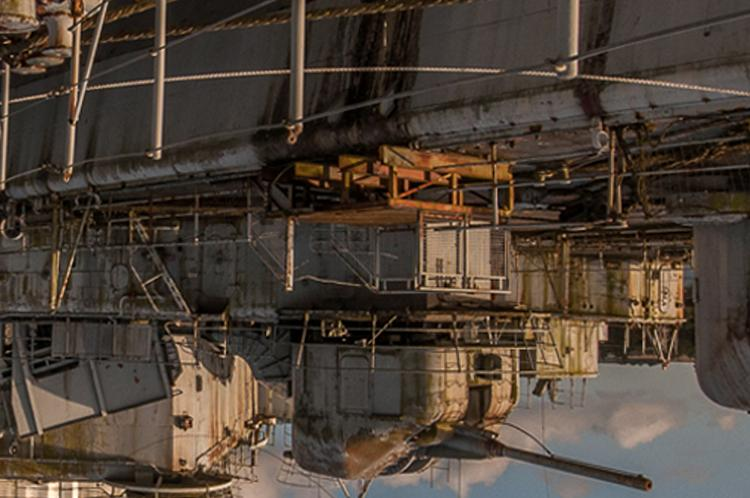rust: (316, 15, 470, 145), (520, 252, 661, 376), (298, 152, 516, 226), (294, 417, 433, 487), (203, 345, 287, 454), (3, 424, 109, 476), (246, 69, 296, 161)
